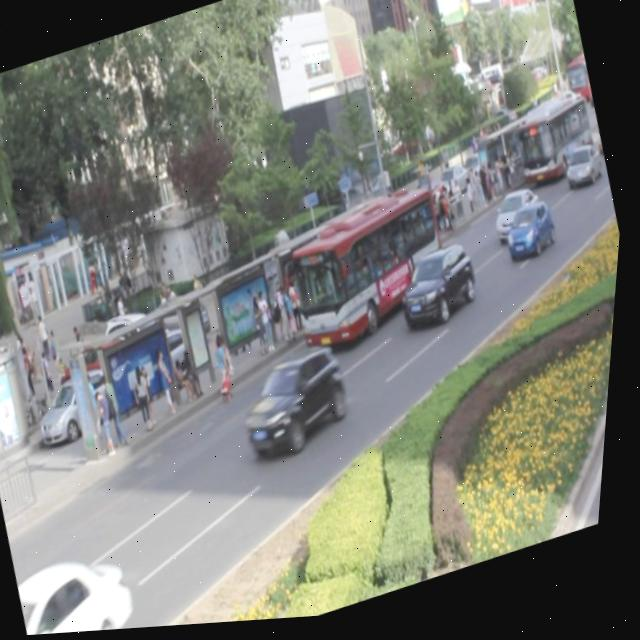car: (237, 346, 363, 466), (21, 542, 161, 637), (392, 243, 490, 339), (501, 204, 563, 269), (489, 190, 550, 251), (561, 148, 607, 197)
van: (282, 189, 462, 357), (510, 105, 601, 196)
